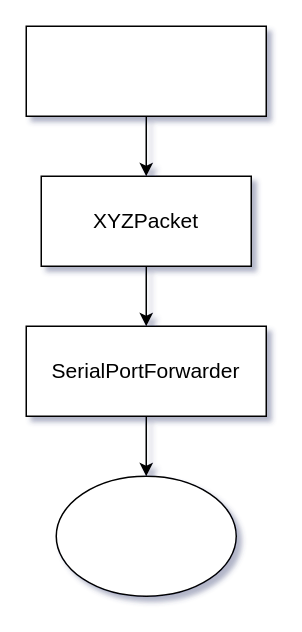
The diagram is 302 pixels wide and 632 high, and some of its shapes have lost their labels. Each missing label, with the centre of its shape:
Mercury: the point at 145,535
XYZ QMLComponent: the point at 145,70
